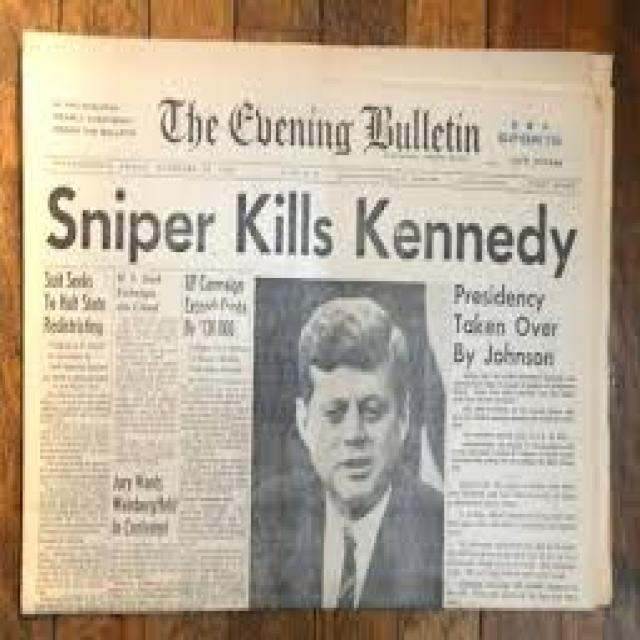paper: (17, 29, 610, 608)
